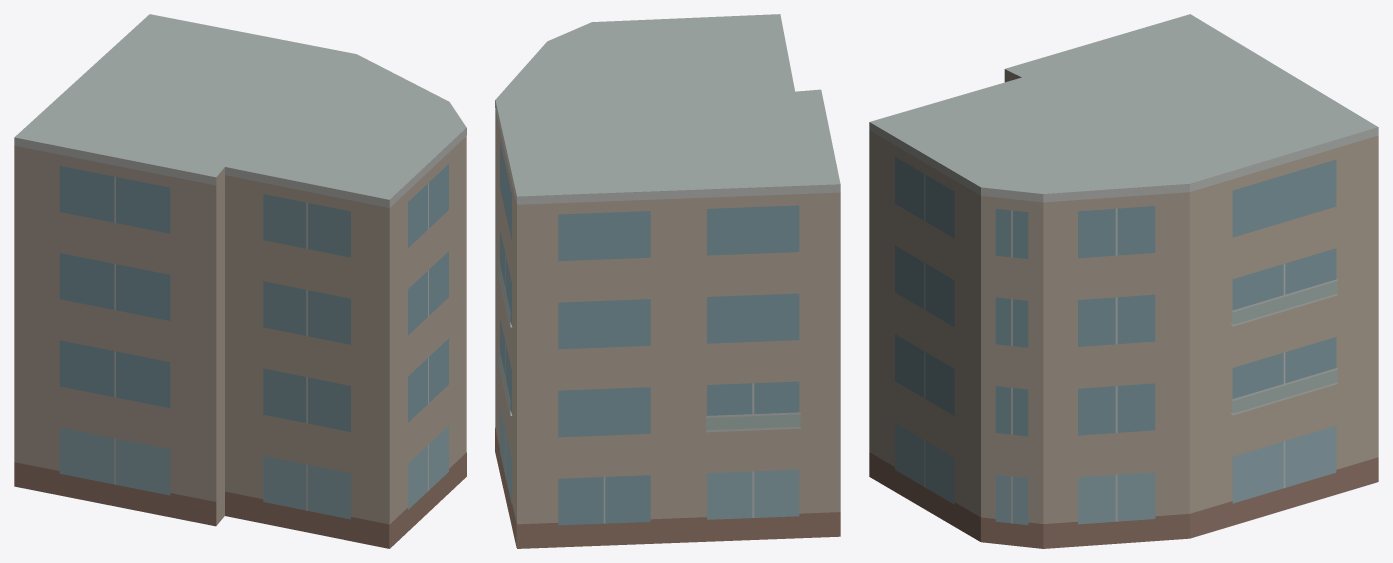
File: survey-upis-32869826.glb
3 views of the same model, side by side, from view 1: azimuth 30°, elevation 25°; view 2: azimuth 150°, elevation 25°; view 3: azimuth 270°, elevation 25° (orthographic).
Visible parts, largest first — view 1: survey-upis-32869826.tmp; view 2: survey-upis-32869826.tmp; view 3: survey-upis-32869826.tmp.
Boxes of the visible parts, left/top/right/bottom form: survey-upis-32869826.tmp: left=14, top=14, right=466, bottom=548; survey-upis-32869826.tmp: left=495, top=14, right=840, bottom=548; survey-upis-32869826.tmp: left=869, top=14, right=1378, bottom=548.
Size of the model in its own units: 11.33 by 10.4 by 13.54.
